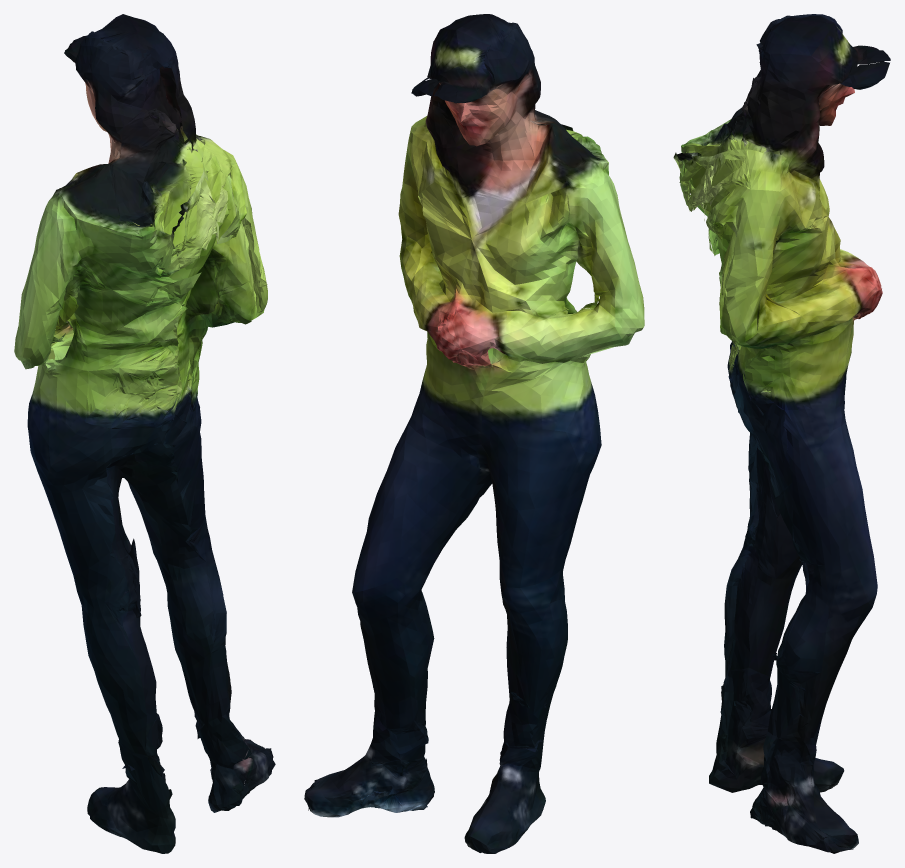
3 views of the same model, side by side, from view 1: azimuth 30°, elevation 25°; view 2: azimuth 150°, elevation 25°; view 3: azimuth 270°, elevation 25° (orthographic). The views are drawn at different scales.
Parts seen in each view (by area): view 1: dec_0002; view 2: dec_0002; view 3: dec_0002.
Part boxes in pixels (<box>): dec_0002: <box>14,14,275,853</box>; dec_0002: <box>304,14,644,853</box>; dec_0002: <box>673,14,890,853</box>.
Bounding box in the file's own units: 0.6792 × 1.77 × 0.4492.
Materials: 1 (1 with a texture image).
